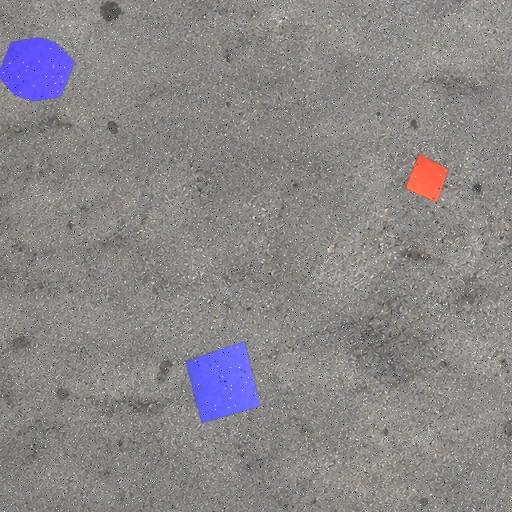BLUE_SQUARE: (186, 341, 260, 424)
RED_SQUARE: (404, 153, 450, 203)
